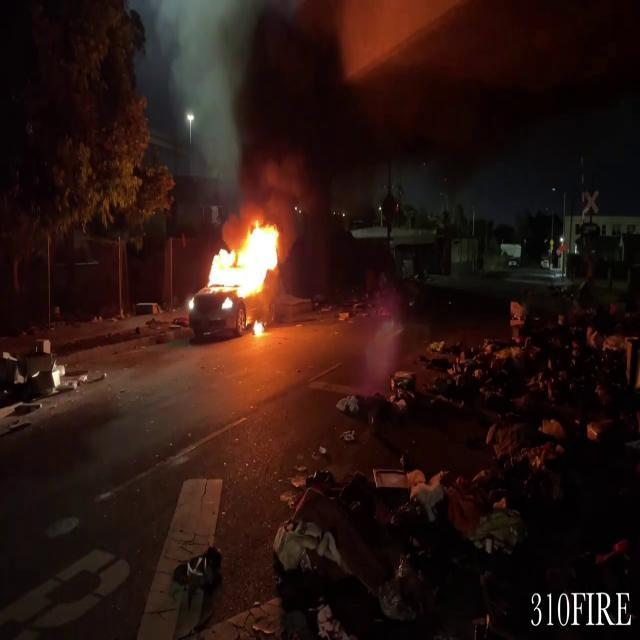Fire: (196, 214, 288, 320)
Smoke: (215, 0, 528, 212)
